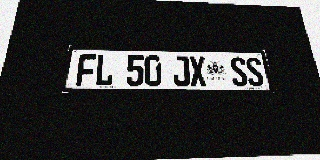0: (144, 55, 161, 86)
5: (126, 55, 144, 86)
F: (76, 54, 97, 86)
J: (172, 56, 190, 87)
L: (94, 54, 114, 86)
S: (229, 57, 249, 87), (245, 57, 265, 87)
X: (189, 56, 207, 87)
